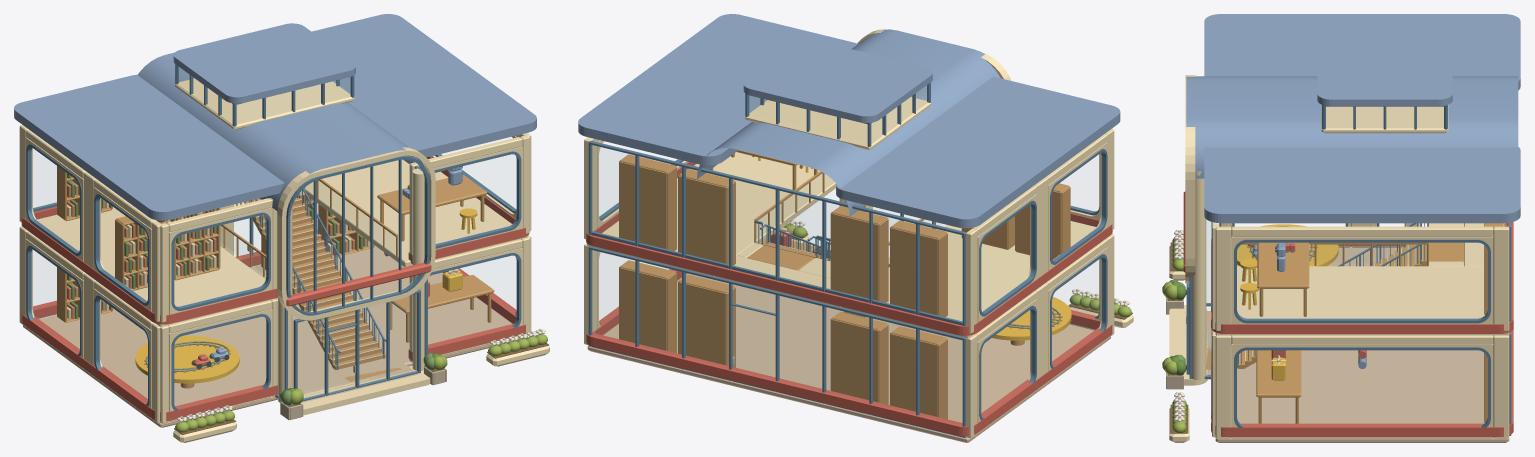
3 views of the same model, side by side, from view 1: azimuth 30°, elevation 25°; view 2: azimuth 150°, elevation 25°; view 3: azimuth 270°, elevation 25° (orthographic). The views are drawn at different scales.
Visible parts, largest first — view 1: R 圆角蓝色平屋面, S 首层室内楼面, S 二层两翼楼板, A 圆角窗框, R 中庭弧面屋盖, A 墙体, D 珊瑚色楼层腰线, R 高窗蓝色顶盖, A 窗上墙, A 窗角实墙, S 中庭宽梯 梯段踏步, I 分类小商品 (+22 smaller); view 2: R 圆角蓝色平屋面, I 货架背板, S 首层室内楼面, D 珊瑚色楼层腰线, A 后窗立面, R 中庭弧面屋盖, S 二层两翼楼板, R 高窗蓝色顶盖, A 墙体, I 格柜竖板, A 圆角窗框, A 窗角实墙 (+9 smaller); view 3: R 圆角蓝色平屋面, S 首层室内楼面, R 中庭弧面屋盖, S 二层两翼楼板, R 高窗蓝色顶盖, D 珊瑚色楼层腰线, A 墙体, A 窗上墙, A 圆角窗框, I 工作桌, A 窗角实墙, R 高窗底槛 (+20 smaller).
Part boxes in pixels (<box>): R 圆角蓝色平屋面: <box>14,14,536,220</box>; S 首层室内楼面: <box>23,245,527,427</box>; S 二层两翼楼板: <box>37,159,528,326</box>; A 圆角窗框: <box>26,144,521,410</box>; R 中庭弧面屋盖: <box>138,52,423,210</box>; A 墙体: <box>19,125,531,423</box>; D 珊瑚色楼层腰线: <box>21,156,529,421</box>; R 高窗蓝色顶盖: <box>173,23,355,103</box>; A 窗上墙: <box>26,129,522,333</box>; A 窗角实墙: <box>25,136,522,411</box>; S 中庭宽梯 梯段踏步: <box>252,194,385,369</box>; I 分类小商品: <box>67,173,370,318</box>; R 圆角蓝色平屋面: <box>578,14,1120,228</box>; I 货架背板: <box>619,161,1061,416</box>; S 首层室内楼面: <box>587,273,1110,442</box>; D 珊瑚色楼层腰线: <box>586,162,1112,436</box>; A 后窗立面: <box>588,140,966,437</box>; R 中庭弧面屋盖: <box>697,29,1000,216</box>; S 二层两翼楼板: <box>587,152,1096,338</box>; R 高窗蓝色顶盖: <box>743,40,932,122</box>; A 墙体: <box>584,128,1114,438</box>; I 格柜竖板: <box>619,161,1070,419</box>; A 圆角窗框: <box>599,149,1107,420</box>; A 窗角实墙: <box>597,140,1108,422</box>; R 圆角蓝色平屋面: <box>1204,14,1520,223</box>; S 首层室内楼面: <box>1215,247,1509,442</box>; R 中庭弧面屋盖: <box>1186,76,1518,178</box>; S 二层两翼楼板: <box>1215,266,1509,335</box>; R 高窗蓝色顶盖: <box>1317,33,1452,106</box>; D 珊瑚色楼层腰线: <box>1211,222,1513,436</box>; A 墙体: <box>1212,223,1509,438</box>; A 窗上墙: <box>1212,222,1493,344</box>; A 圆角窗框: <box>1211,222,1490,427</box>; I 工作桌: <box>1256,242,1309,423</box>; A 窗角实墙: <box>1229,223,1493,427</box>; R 高窗底槛: <box>1321,105,1448,133</box>.
Size of the model in its own units: 20.95 by 13.78 by 15.86.
